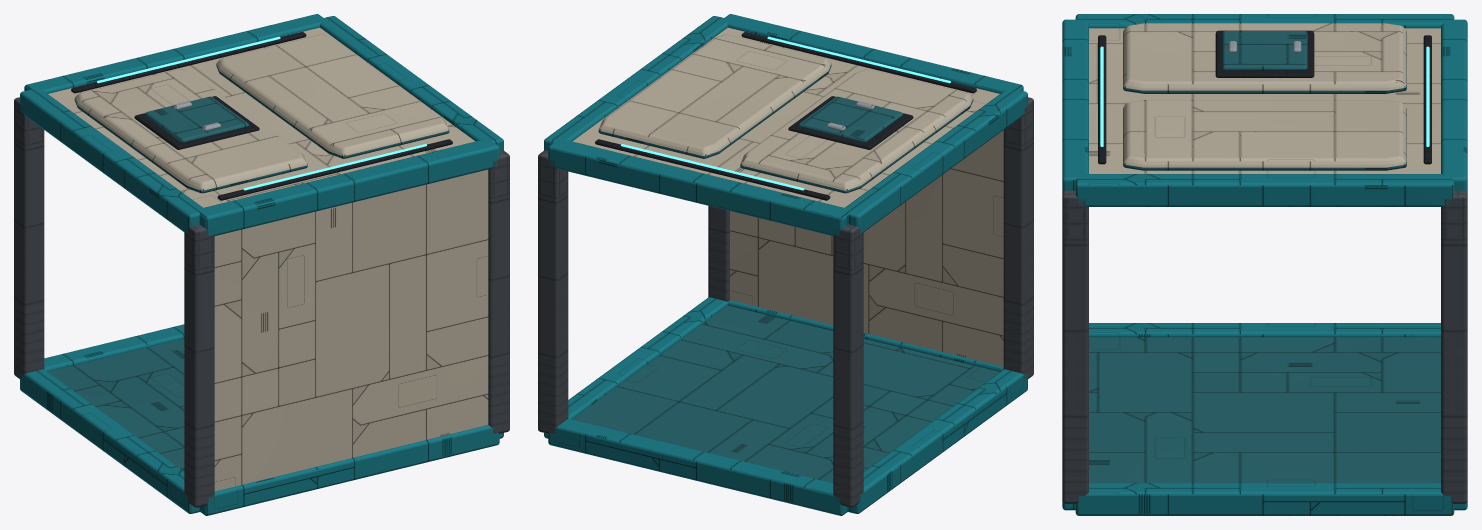
File: pressure_corridor_tee_lod0.glb
3 renders of one model, left to right at view 1: azimuth 30°, elevation 25°; view 2: azimuth 150°, elevation 25°; view 3: azimuth 270°, elevation 25°, orthographic. The views are drawn at different scales.
Visible parts, largest first — view 1: LOD0_Hull, LOD0_Livery, LOD0_Mechanical, LOD0_Armor, LOD0_MechanicalDark, LOD0_Lights_Cyan; view 2: LOD0_Hull, LOD0_Livery, LOD0_Armor, LOD0_Mechanical, LOD0_MechanicalDark, LOD0_Lights_Cyan; view 3: LOD0_Armor, LOD0_Hull, LOD0_Livery, LOD0_Mechanical, LOD0_MechanicalDark, LOD0_Lights_Cyan.
Part boxes in pixels (left/top/right/bottom): LOD0_Hull: left=48, top=27, right=488, bottom=491; LOD0_Livery: left=20, top=14, right=503, bottom=515; LOD0_Mechanical: left=14, top=97, right=509, bottom=507; LOD0_Armor: left=48, top=63, right=449, bottom=471; LOD0_MechanicalDark: left=71, top=32, right=452, bottom=200; LOD0_Lights_Cyan: left=97, top=36, right=426, bottom=190; LOD0_Hull: left=572, top=27, right=1003, bottom=366; LOD0_Livery: left=544, top=14, right=1027, bottom=515; LOD0_Armor: left=572, top=64, right=999, bottom=482; LOD0_Mechanical: left=538, top=97, right=1033, bottom=507; LOD0_MechanicalDark: left=595, top=32, right=976, bottom=200; LOD0_Lights_Cyan: left=621, top=36, right=950, bottom=190; LOD0_Armor: left=1089, top=31, right=1440, bottom=482; LOD0_Hull: left=1089, top=23, right=1440, bottom=173; LOD0_Livery: left=1062, top=14, right=1467, bottom=515; LOD0_Mechanical: left=1062, top=190, right=1467, bottom=503; LOD0_MechanicalDark: left=1098, top=30, right=1431, bottom=164; LOD0_Lights_Cyan: left=1100, top=46, right=1429, bottom=146.
Size of the model in its own units: 4.28 by 4.1 by 4.28.
Materials: 7 (6 with a texture image).
